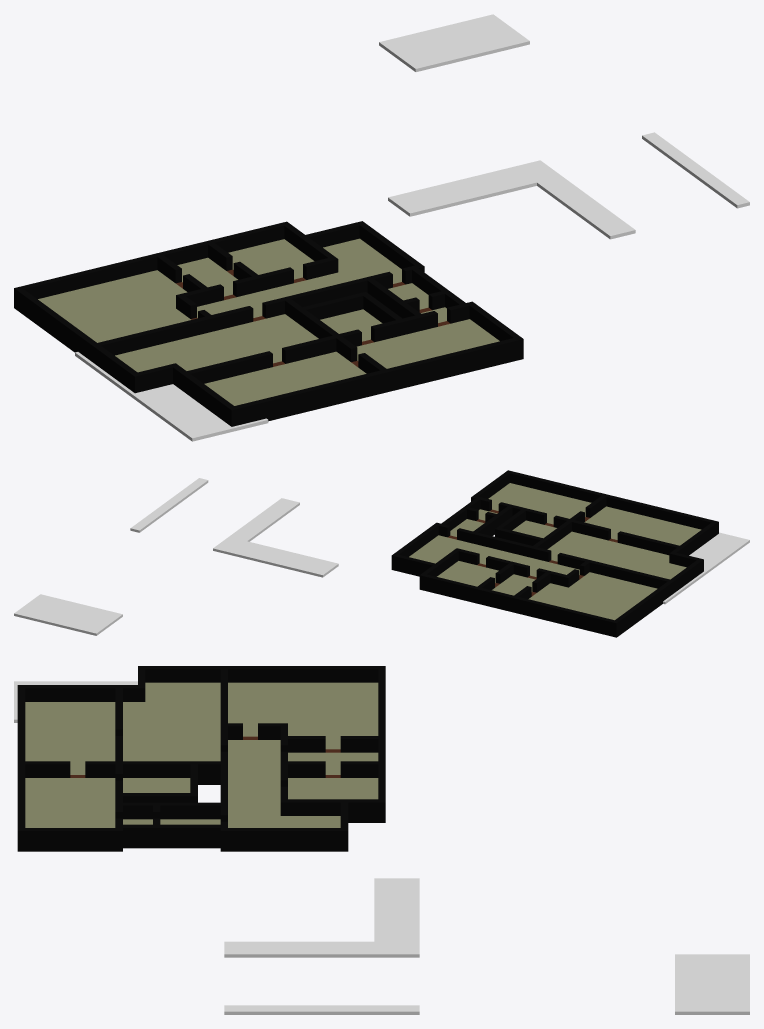
The model's file is RoomModel.glb.
3 renders of one model, top to bottom at view 1: azimuth 30°, elevation 25°; view 2: azimuth 150°, elevation 25°; view 3: azimuth 270°, elevation 25°, orthographic. The views are drawn at different scales.
Parts seen in each view (by area): view 1: 立方体.036, 立方体.2445, 立方体.1342, 立方体.1053, 立方体.2331, 立方体.001, 立方体.1589, 立方体.674, 立方体.785, 立方体.1907, 立方体.779, 立方体.2054 (+1 smaller); view 2: 立方体.036, 立方体.2445, 立方体.1342, 立方体.1053, 立方体.2331, 立方体.001, 立方体.1589, 立方体.674, 立方体.785, 立方体.1907, 立方体.779, 立方体.2054 (+1 smaller); view 3: 立方体.036, 立方体.2445, 立方体.1053, 立方体.1342, 立方体.001, 立方体.1589, 立方体.2331, 立方体.674, 立方体.1907, 立方体.779, 立方体.2054, 立方体.816 (+1 smaller).
Part boxes in pixels (x1,y1,x2,y2): 立方体.036: [14, 221, 523, 426]; 立方体.2445: [38, 270, 190, 342]; 立方体.1342: [388, 160, 635, 239]; 立方体.1053: [115, 314, 318, 372]; 立方体.2331: [379, 14, 529, 71]; 立方体.001: [204, 351, 366, 405]; 立方体.1589: [197, 238, 401, 317]; 立方体.674: [357, 319, 499, 368]; 立方体.785: [75, 352, 268, 441]; 立方体.1907: [228, 239, 314, 279]; 立方体.779: [642, 132, 749, 208]; 立方体.2054: [177, 257, 237, 296]; 立方体.036: [391, 470, 718, 637]; 立方体.2445: [528, 572, 657, 620]; 立方体.1342: [213, 498, 338, 577]; 立方体.1053: [547, 531, 686, 579]; 立方体.2331: [14, 594, 122, 635]; 立方体.001: [584, 506, 701, 545]; 立方体.1589: [409, 535, 579, 576]; 立方体.674: [488, 483, 591, 524]; 立方体.785: [663, 532, 749, 604]; 立方体.1907: [437, 561, 498, 586]; 立方体.779: [130, 478, 208, 532]; 立方体.2054: [492, 574, 535, 595]; 立方体.036: [17, 666, 385, 851]; 立方体.2445: [228, 682, 378, 749]; 立方体.1053: [123, 682, 220, 761]; 立方体.1342: [224, 878, 419, 957]; 立方体.001: [25, 702, 115, 774]; 立方体.1589: [228, 740, 340, 827]; 立方体.2331: [675, 954, 749, 1014]; 立方体.674: [25, 778, 115, 827]; 立方体.1907: [288, 778, 378, 799]; 立方体.779: [224, 1005, 419, 1014]; 立方体.2054: [288, 752, 378, 774]; 立方体.816: [123, 778, 190, 792].
Bounding box in the file's own units: 104 × 3 × 98.
Materials: 3 (3 with a texture image).
